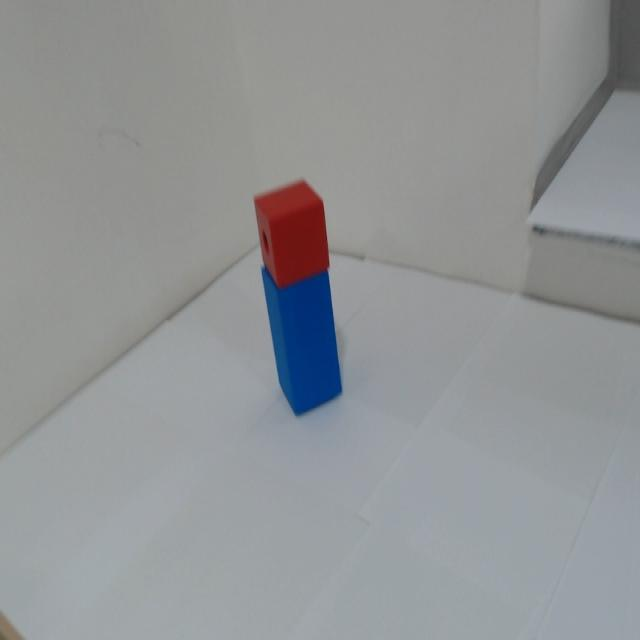cube: (243, 172, 352, 286)
